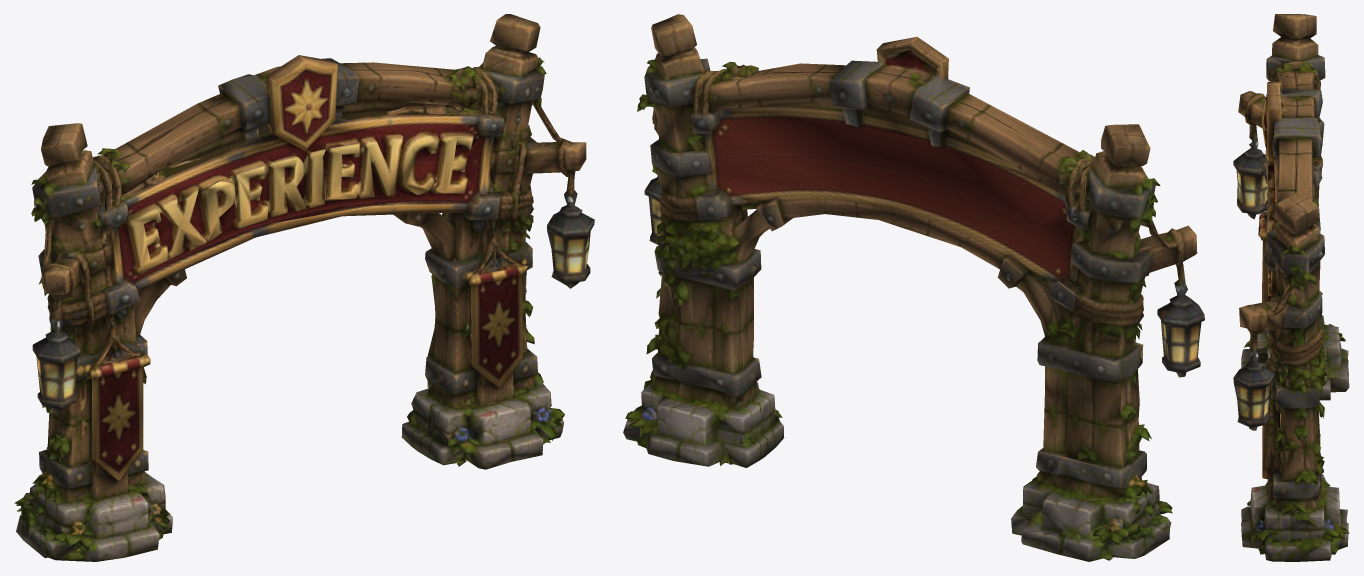
Rendered from arch-experience.glb.
The picture shows the model from 3 angles, left to right: view 1: azimuth 30°, elevation 25°; view 2: azimuth 150°, elevation 25°; view 3: azimuth 270°, elevation 25°; orthographic projection. The views are drawn at different scales.
Parts seen in each view (by area): view 1: Mesh1.0; view 2: Mesh1.0; view 3: Mesh1.0.
Boxes of the visible parts, x1=… form: Mesh1.0: x1=14, y1=14, x2=594, y2=561; Mesh1.0: x1=623, y1=14, x2=1204, y2=561; Mesh1.0: x1=1233, y1=14, x2=1349, y2=561.
Bounding box in the file's own units: 1.9 × 1.44 × 0.4064.
Materials: 1 (1 with a texture image).
